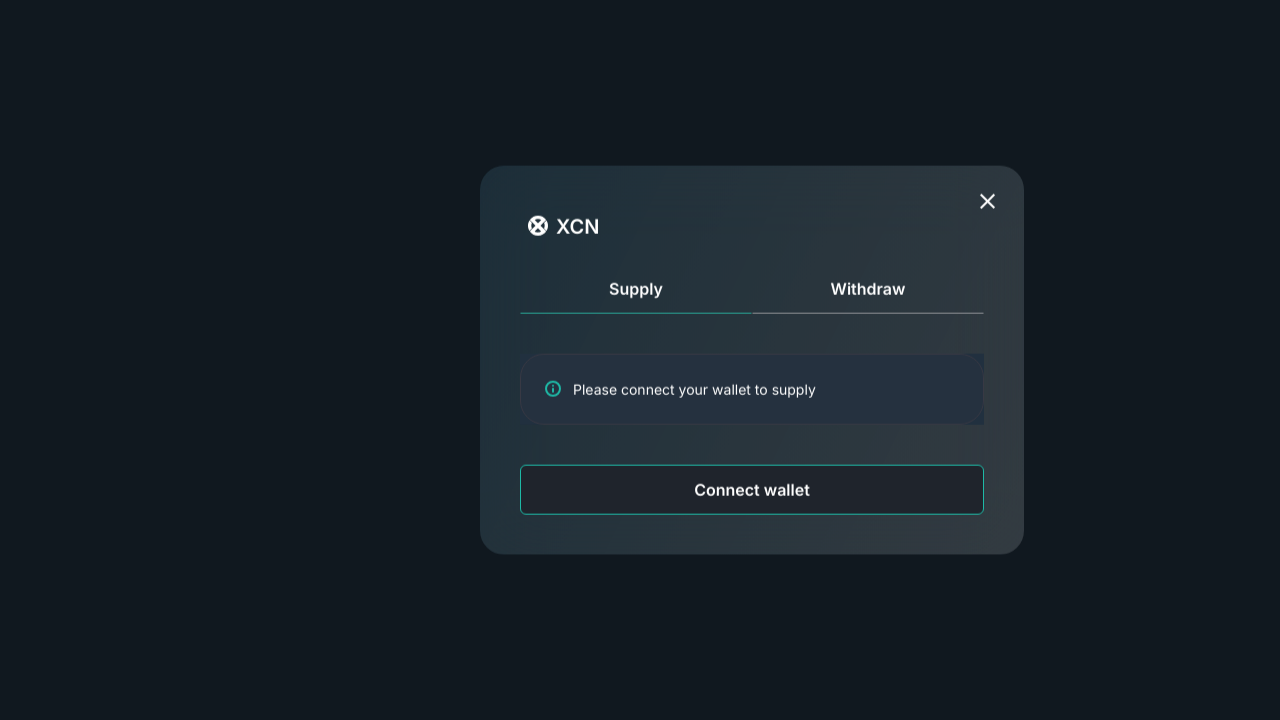
Scenario: pages/Dashboard/SupplyWithdrawUi › asks the user to connect if wallet is not connected
Check: the text "Please connect your wallet to supply" is shown, box [573,380,816,397]
Step 1. Click the button "Withdraw" → (868, 288), box [752,263,984,313]
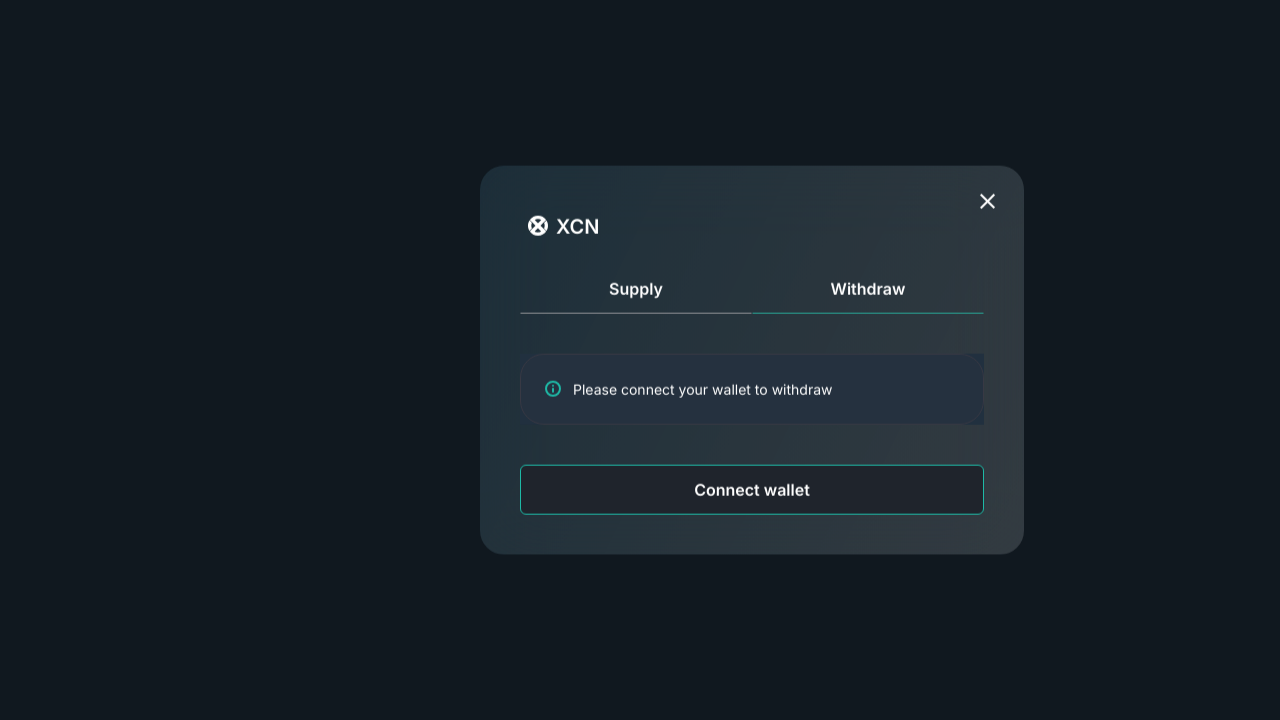
Check: the text "Please connect your wallet to withdraw" is shown, box [573,380,832,397]
